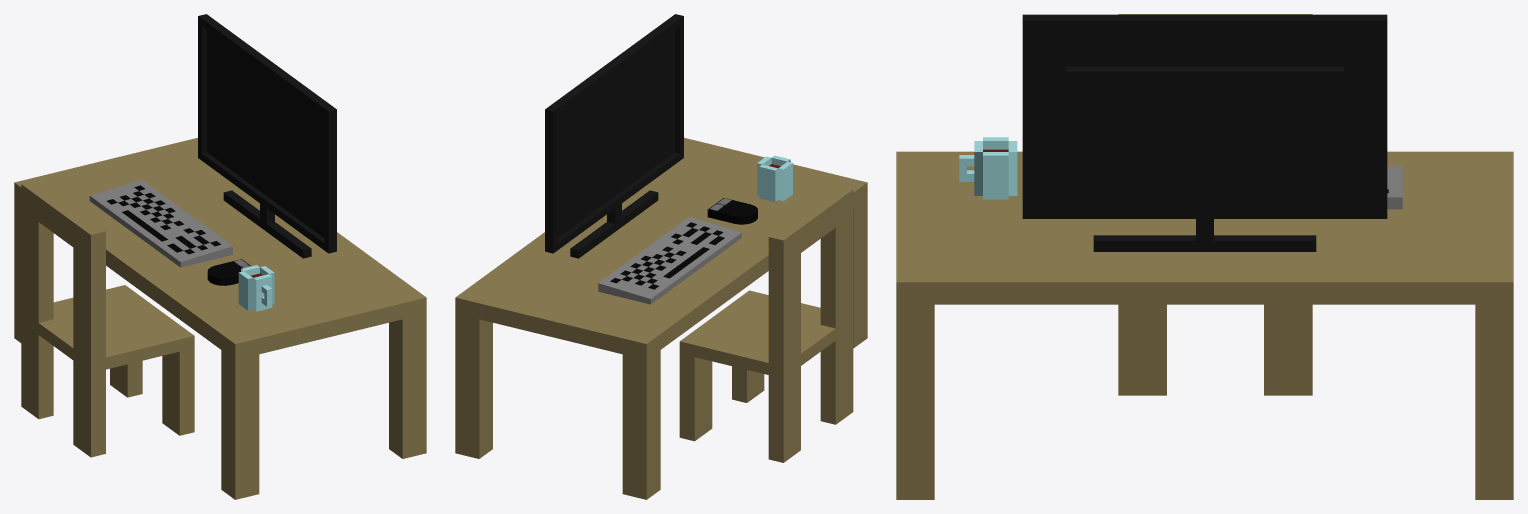
File: desk2.glb
The picture shows the model from 3 angles, left to right: view 1: azimuth 30°, elevation 25°; view 2: azimuth 150°, elevation 25°; view 3: azimuth 270°, elevation 25°; orthographic projection. The views are drawn at different scales.
Parts seen in each view (by area): view 1: desk, chair.001, display, keyboard, Cube.002, mouse; view 2: desk, chair.001, display, keyboard, Cube.002, mouse; view 3: display, desk, chair.001, Cube.002, keyboard.
Boxes of the visible parts, x1=… form: desk: x1=14, y1=137, x2=426, y2=499; chair.001: x1=21, y1=180, x2=194, y2=457; display: x1=198, y1=14, x2=336, y2=258; keyboard: x1=89, y1=180, x2=232, y2=267; Cube.002: x1=238, y1=265, x2=274, y2=311; mouse: x1=207, y1=259, x2=250, y2=285; desk: x1=455, y1=137, x2=867, y2=499; chair.001: x1=679, y1=186, x2=853, y2=462; display: x1=545, y1=14, x2=683, y2=258; keyboard: x1=598, y1=216, x2=741, y2=304; Cube.002: x1=757, y1=155, x2=792, y2=201; mouse: x1=707, y1=198, x2=757, y2=224; display: x1=1022, y1=14, x2=1387, y2=251; desk: x1=896, y1=151, x2=1513, y2=499; chair.001: x1=1118, y1=14, x2=1312, y2=395; Cube.002: x1=959, y1=137, x2=1017, y2=199; keyboard: x1=1387, y1=165, x2=1402, y2=209.
Size of the model in its own units: 1.34 by 1.61 by 2.
